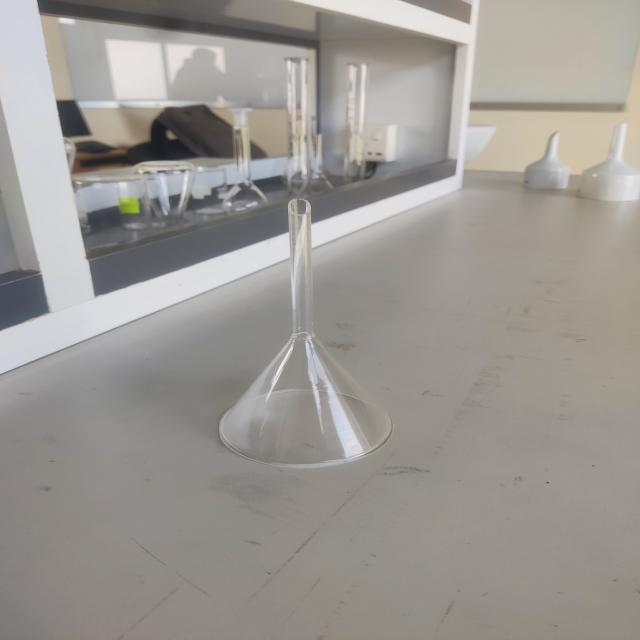Funnel: (171, 170, 430, 515)
